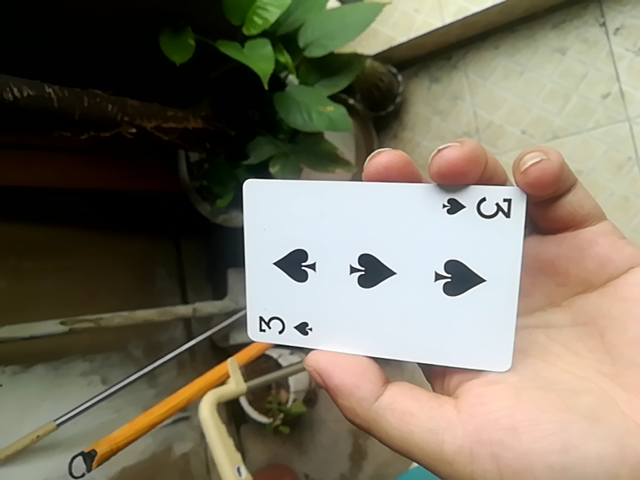ht 3: (238, 171, 527, 371)
